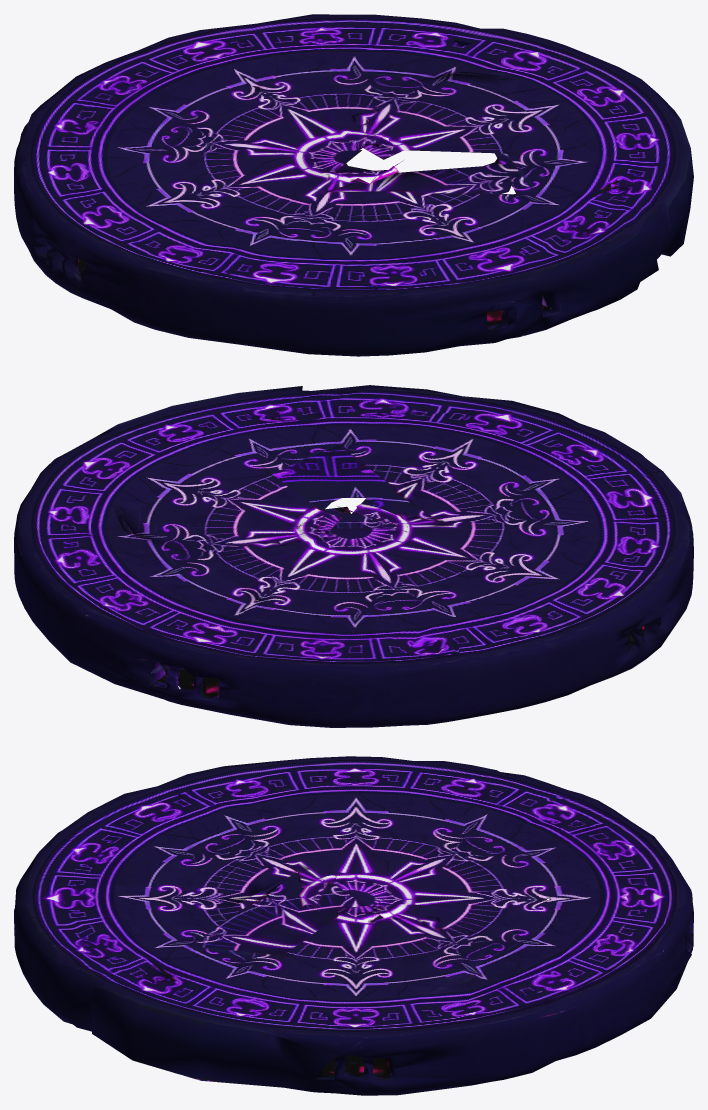
The model's file is z2_glyph.glb.
The picture shows the model from 3 angles, top to bottom: view 1: azimuth 30°, elevation 25°; view 2: azimuth 150°, elevation 25°; view 3: azimuth 270°, elevation 25°; orthographic projection.
Bounding box in the file's own units: 1.91 × 0.189 × 1.91.
1 material, 1 textured.
